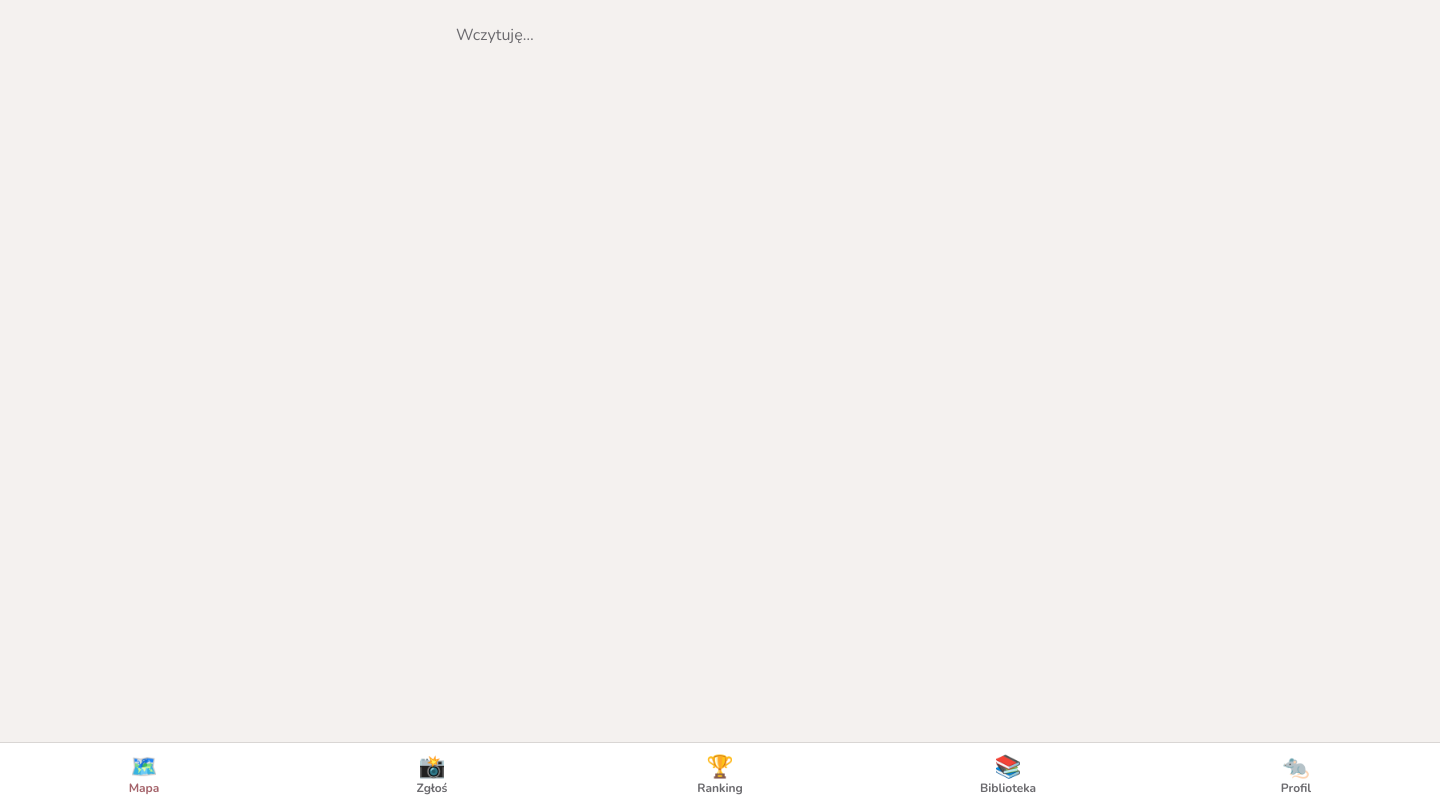
Test: użytkownik po onboardingu widzi aplikację z zakładkami
Click the button "🐀 Profil".
click(1296, 776)  # box [1152, 743, 1439, 809]
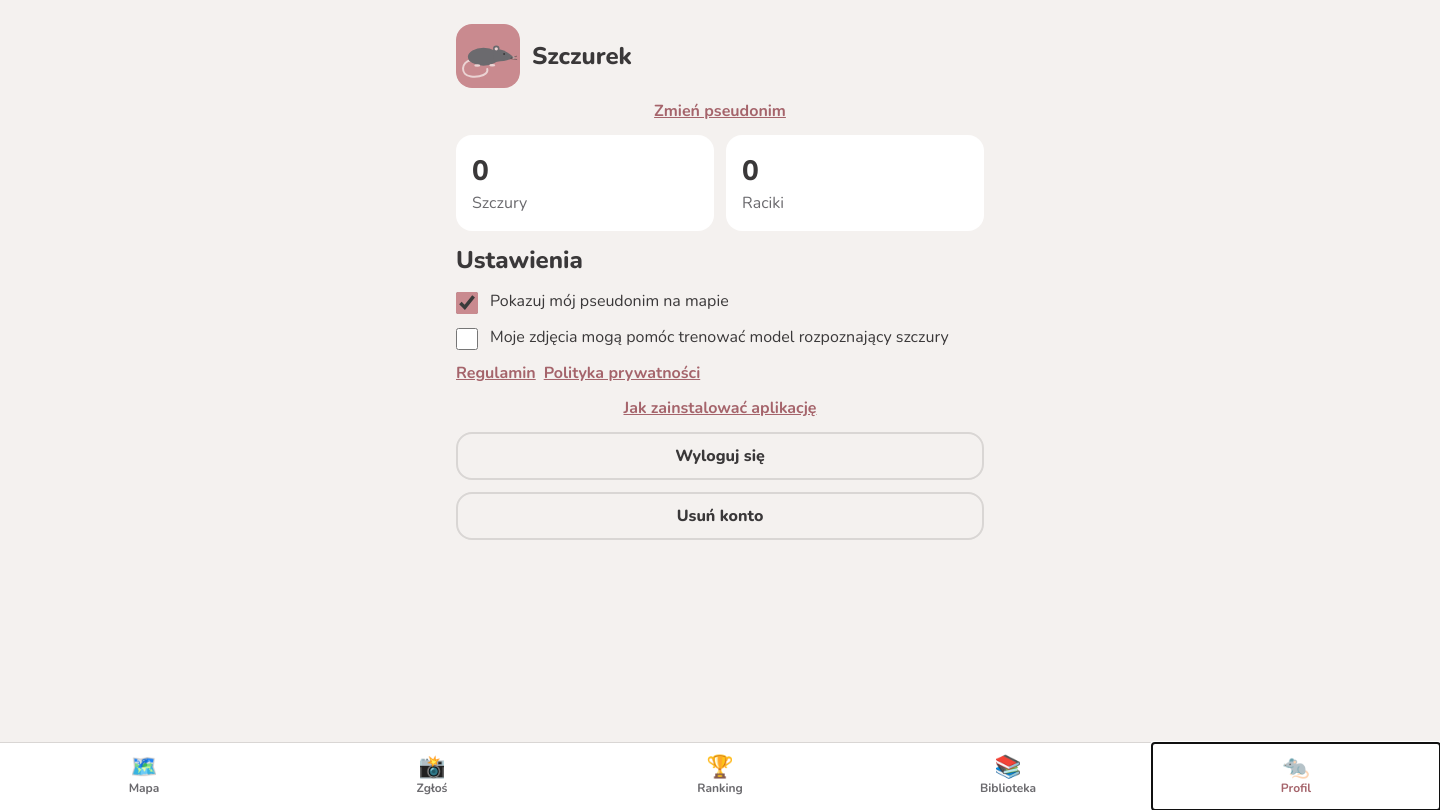
Expected: the heading "Szczurek" is shown, [532, 39, 632, 73]
